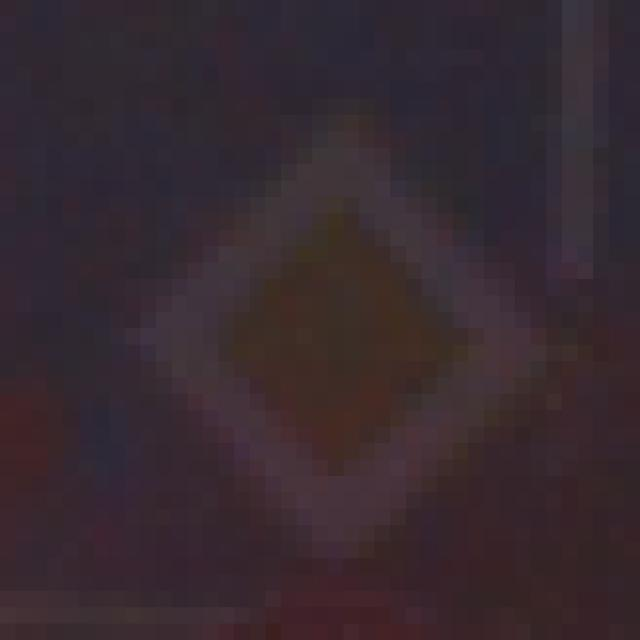Main Road: (95, 83, 563, 559)
